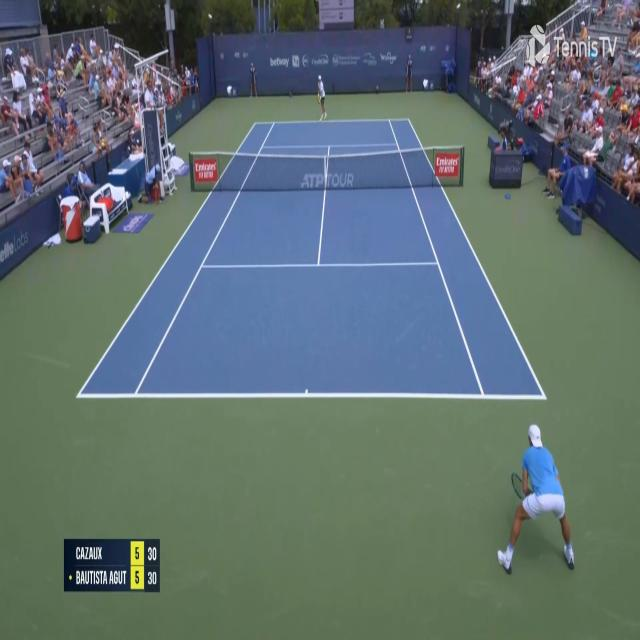tennis-player: (496, 419, 579, 578), (315, 74, 326, 122)
